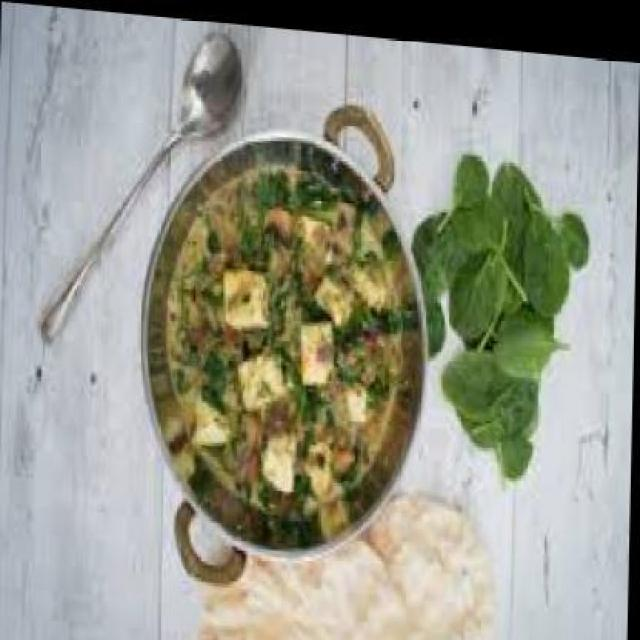palak_paneer: (162, 151, 403, 515)
